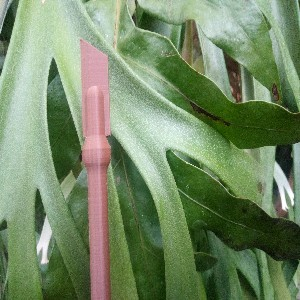cutter: (78, 37, 110, 300)
